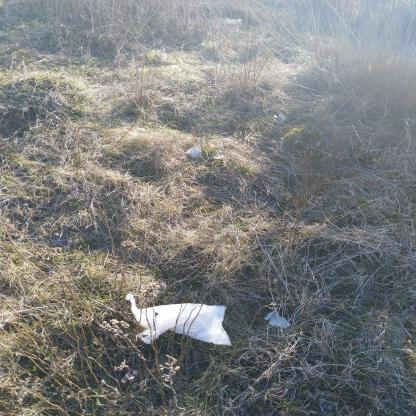plastik: (127, 293, 233, 347)
